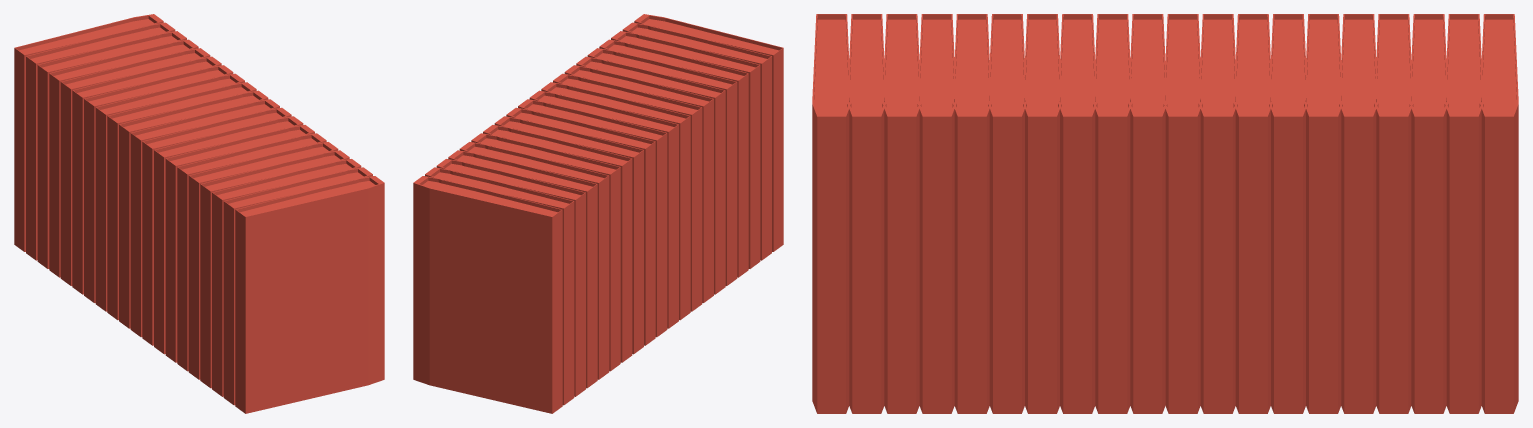
The model's file is books 1 .fbx.
3 renders of one model, left to right at view 1: azimuth 30°, elevation 25°; view 2: azimuth 150°, elevation 25°; view 3: azimuth 270°, elevation 25°, orthographic. The views are drawn at different scales.
Visible parts, largest first — view 1: books; view 2: books; view 3: books.
Part boxes in pixels (bbox=[...]): books: bbox=[14, 14, 384, 413]; books: bbox=[413, 14, 783, 413]; books: bbox=[812, 14, 1518, 413].
Bounding box in the file's own units: 90.32 × 122 × 262.
